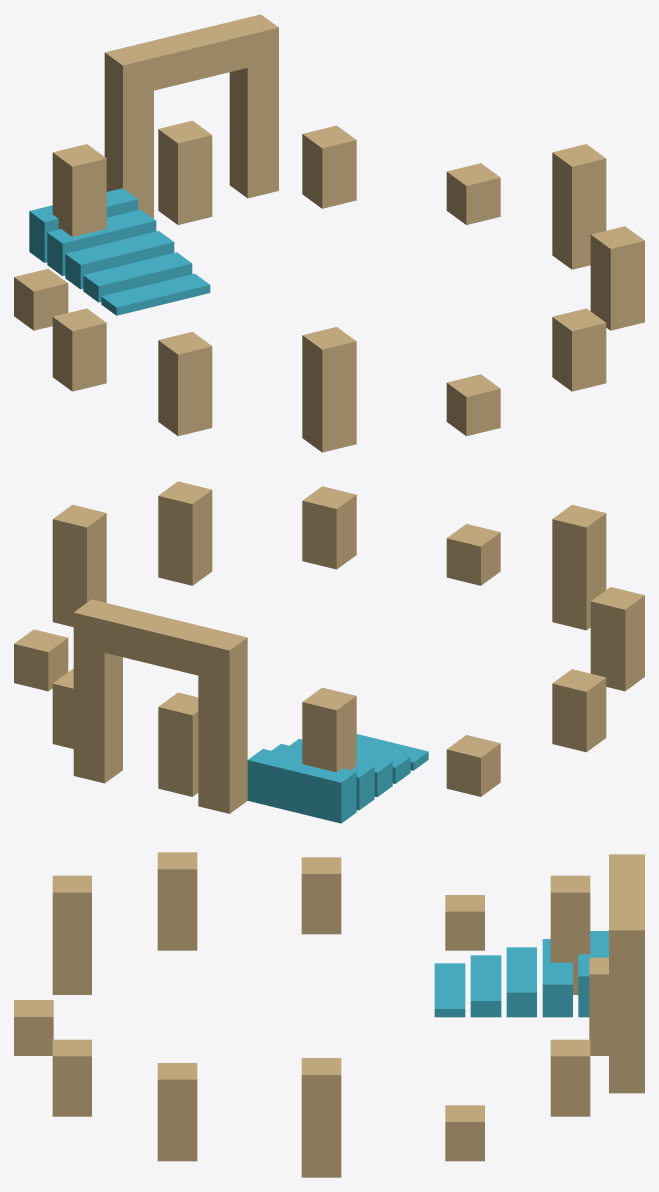
File: level.glb
3 views of the same model, one above another, from view 1: azimuth 30°, elevation 25°; view 2: azimuth 150°, elevation 25°; view 3: azimuth 270°, elevation 25° (orthographic).
Visible parts, largest first — view 1: Archway, Stair test, Pillar 11, Pillar 3, Pillar 6, Pillar 10, Pillar 2, Pillar 7, Pillar 1, Pillar 5, Pillar 9, Pillar 0 (+2 smaller); view 2: Archway, Stair test, Pillar 11, Pillar 3, Pillar 2, Pillar 10, Pillar 7, Pillar 1, Pillar 9, Pillar 6, Pillar 8, Pillar 0 (+2 smaller); view 3: Stair test, Archway, Pillar 3, Pillar 11, Pillar 10, Pillar 2, Pillar 7, Pillar 5, Pillar 9, Pillar 1, Pillar 4, Pillar 8 (+2 smaller).
Boxes of the visible parts, x1,y1,x2,y2 form: Archway: (104,14,278,218); Stair test: (29,188,210,315); Pillar 11: (302,327,356,452); Pillar 3: (552,144,606,269); Pillar 6: (158,120,212,224); Pillar 10: (158,332,212,436); Pillar 2: (590,226,644,330); Pillar 7: (52,144,106,236); Pillar 1: (552,308,606,391); Pillar 5: (302,125,356,208); Pillar 9: (52,308,106,391); Pillar 0: (446,374,500,436); Archway: (73,599,247,813); Stair test: (247,734,428,823); Pillar 11: (552,504,606,630); Pillar 3: (52,504,106,626); Pillar 2: (158,481,212,585); Pillar 10: (590,587,644,691); Pillar 7: (302,687,356,772); Pillar 1: (302,486,356,569); Pillar 9: (552,669,606,752); Pillar 6: (158,692,198,796); Pillar 8: (446,735,500,796); Pillar 0: (446,524,500,585); Stair test: (434,931,608,1017); Archway: (609,854,644,1093); Pillar 3: (301,1058,341,1177); Pillar 11: (52,875,91,994); Pillar 10: (157,852,197,950); Pillar 2: (157,1063,197,1161); Pillar 7: (550,875,590,994); Pillar 5: (550,1039,590,1116); Pillar 9: (301,857,341,934); Pillar 1: (52,1039,91,1116); Pillar 4: (445,1105,484,1161); Pillar 8: (445,895,484,950).
Size of what is drawn, in the model's own units: 17.1 by 5 by 17.55.
